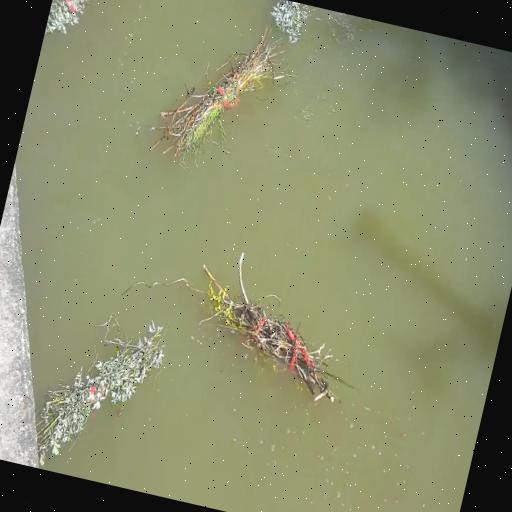twig: (204, 253, 341, 402), (37, 314, 164, 465), (152, 34, 279, 163), (45, 0, 94, 34), (271, 0, 308, 43)
